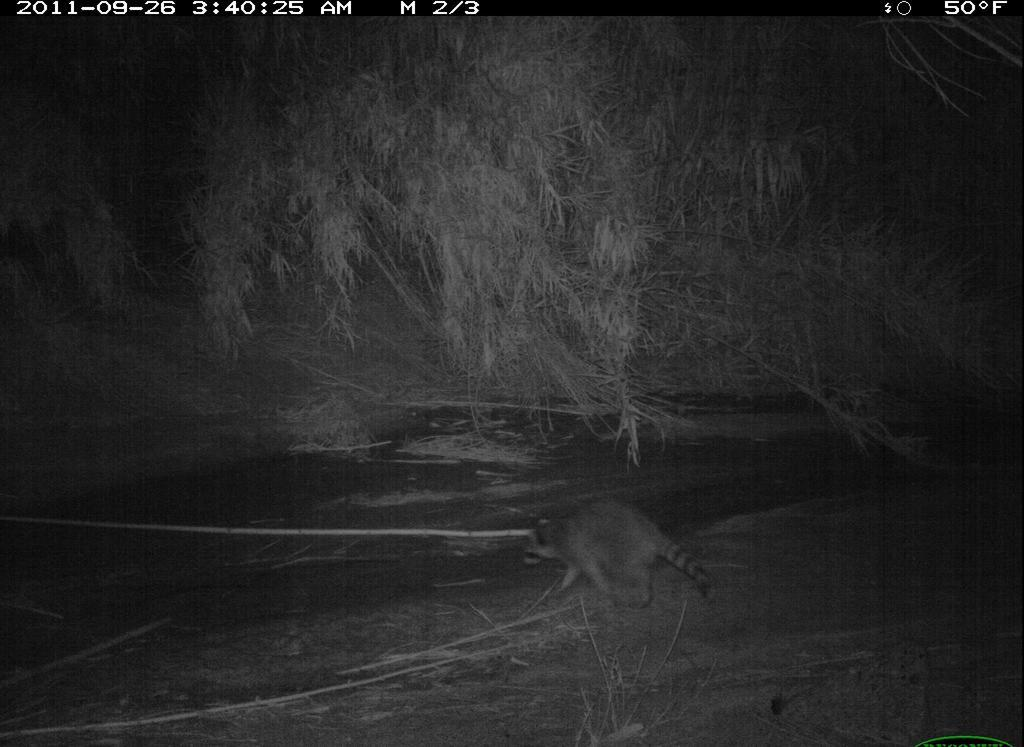raccoon: (520, 486, 720, 620)
